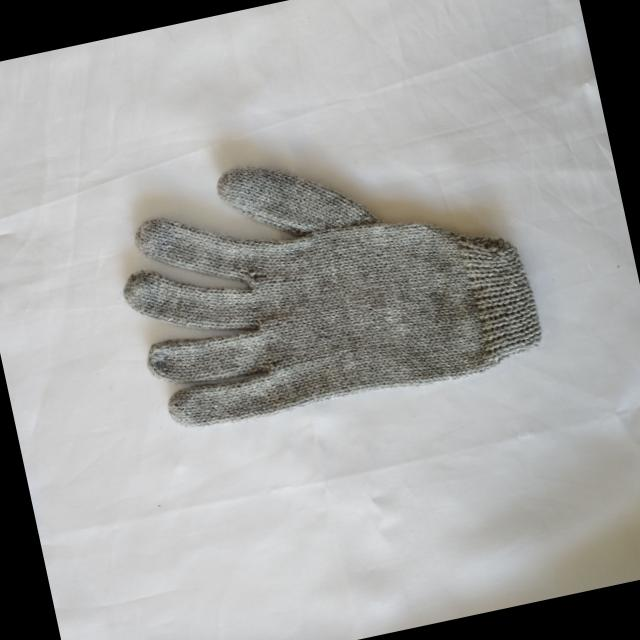Guante: (102, 110, 549, 443)
